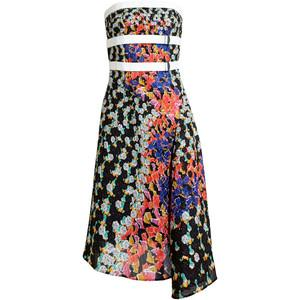C_dress: (74, 1, 227, 300)
